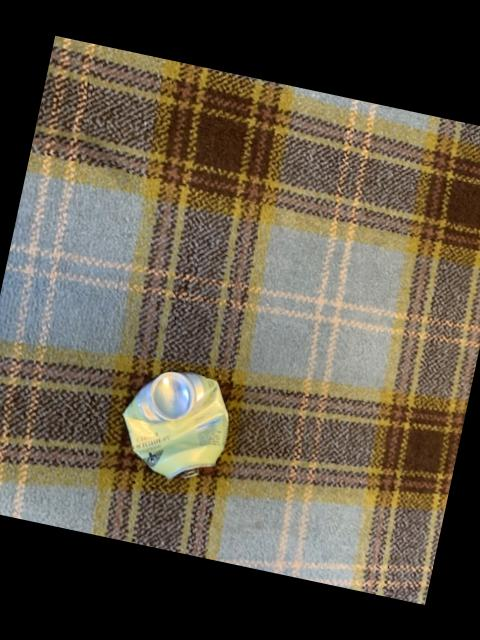metal: (121, 370, 226, 476)
